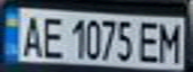0: (81, 16, 103, 61)
1: (63, 16, 87, 58)
5: (115, 17, 139, 62)
7: (100, 17, 118, 61)
A: (18, 11, 45, 58)
E: (36, 13, 66, 60), (136, 18, 163, 64)
M: (154, 19, 187, 63)
